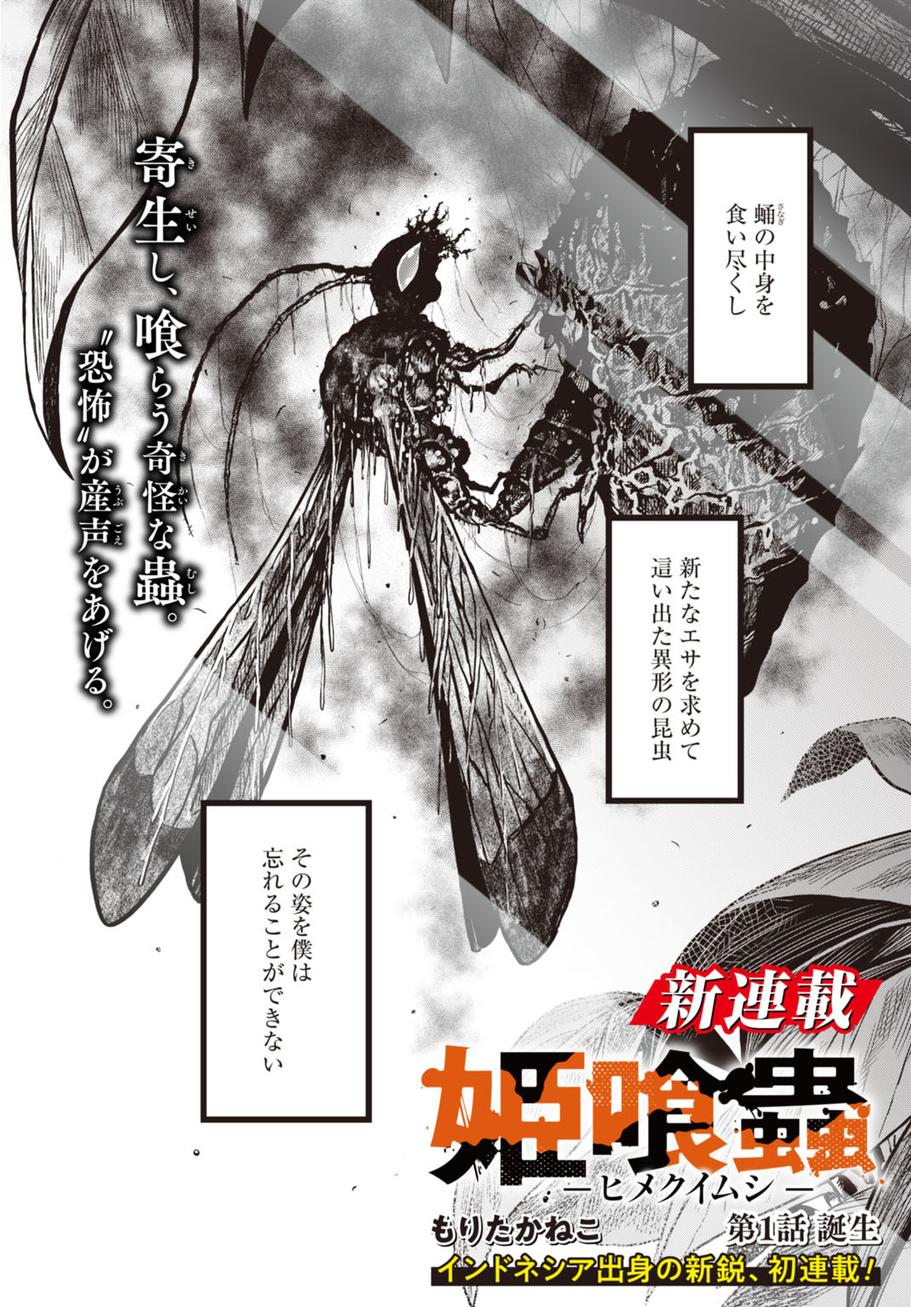bubbles: (197, 798, 378, 1128), (602, 506, 752, 810), (679, 120, 821, 397)
